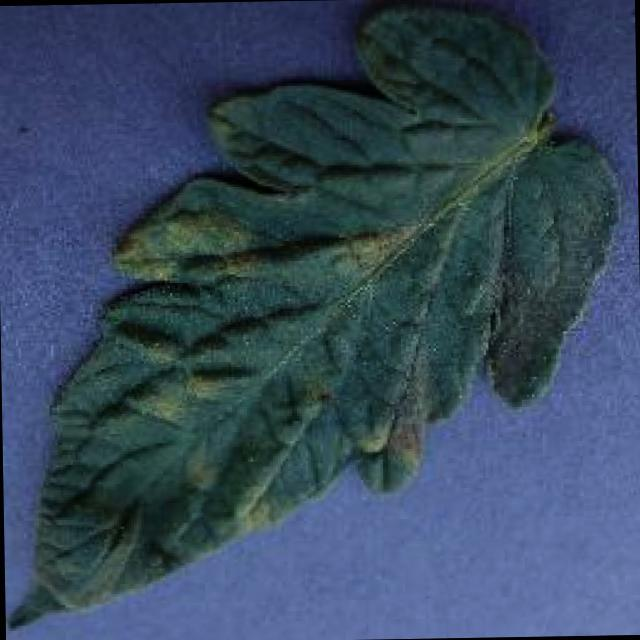Tomato mold leaf: (0, 0, 628, 631)
